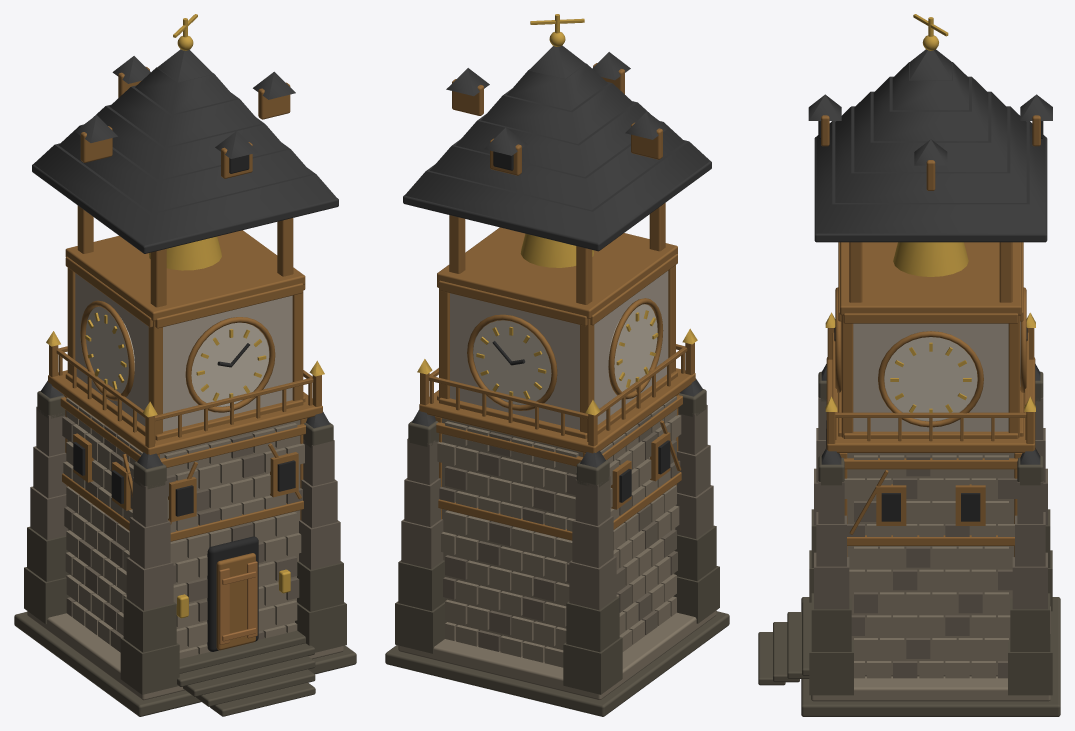
File: clock-tower.glb
3 renders of one model, left to right at view 1: azimuth 30°, elevation 25°; view 2: azimuth 150°, elevation 25°; view 3: azimuth 270°, elevation 25°, orthographic. The views are drawn at different scales.
Parts seen in each view (by area): view 1: clock-tower-farm-wood-dark, clock-tower-farm-roof-slate, clock-tower-farm-stone-dark, clock-tower-farm-stone, clock-tower-farm-rock, clock-tower-farm-plaster, clock-tower-farm-trim, clock-tower-farm-window, clock-tower-farm-gold, clock-tower-farm-wood; view 2: clock-tower-farm-wood-dark, clock-tower-farm-stone, clock-tower-farm-roof-slate, clock-tower-farm-rock, clock-tower-farm-stone-dark, clock-tower-farm-plaster, clock-tower-farm-trim, clock-tower-farm-gold, clock-tower-farm-window; view 3: clock-tower-farm-roof-slate, clock-tower-farm-wood-dark, clock-tower-farm-stone, clock-tower-farm-stone-dark, clock-tower-farm-rock, clock-tower-farm-plaster, clock-tower-farm-trim, clock-tower-farm-gold, clock-tower-farm-window.
Part boxes in pixels (x1,y1,x2,y2): clock-tower-farm-wood-dark: (48, 66, 322, 650); clock-tower-farm-roof-slate: (32, 49, 338, 468); clock-tower-farm-stone-dark: (14, 391, 356, 716); clock-tower-farm-stone: (27, 397, 343, 700); clock-tower-farm-rock: (30, 406, 340, 652); clock-tower-farm-plaster: (75, 273, 292, 431); clock-tower-farm-trim: (86, 306, 268, 406); clock-tower-farm-window: (73, 155, 295, 651); clock-tower-farm-gold: (46, 14, 324, 618); clock-tower-farm-wood: (219, 561, 257, 644); clock-tower-farm-wood-dark: (419, 63, 695, 540); clock-tower-farm-stone: (398, 396, 716, 699); clock-tower-farm-roof-slate: (403, 45, 711, 467); clock-tower-farm-rock: (401, 405, 713, 651); clock-tower-farm-stone-dark: (385, 389, 729, 716); clock-tower-farm-plaster: (450, 271, 668, 429); clock-tower-farm-trim: (473, 304, 657, 404); clock-tower-farm-gold: (417, 14, 697, 415); clock-tower-farm-window: (492, 151, 670, 502); clock-tower-farm-roof-slate: (808, 49, 1052, 464); clock-tower-farm-wood-dark: (821, 115, 1040, 556); clock-tower-farm-stone: (811, 453, 1050, 701); clock-tower-farm-stone-dark: (758, 371, 1060, 716); clock-tower-farm-rock: (814, 397, 1047, 678); clock-tower-farm-plaster: (853, 323, 1008, 431); clock-tower-farm-trim: (884, 321, 1020, 420); clock-tower-farm-gold: (825, 14, 1035, 413); clock-tower-farm-window: (818, 121, 1043, 521).
Bounding box in the file's own units: 5.35 × 14.68 × 6.24.
